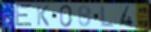0: (58, 4, 73, 28)
4: (118, 5, 135, 29)
8: (77, 4, 93, 29)
E: (15, 3, 34, 28)
K: (36, 5, 51, 27)
L: (100, 5, 116, 29)
